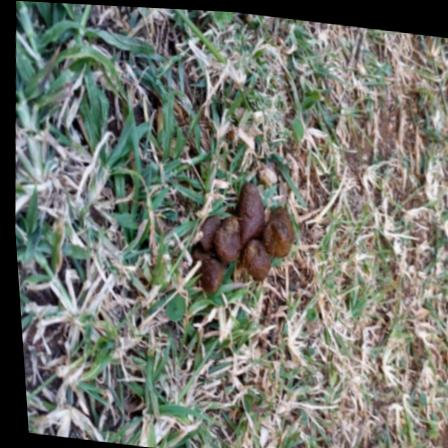dog-poop: (183, 173, 301, 304)
